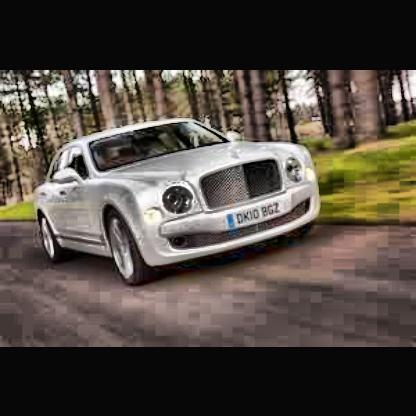Bentley Mulsanne Sedan 2011: (39, 121, 323, 286)
